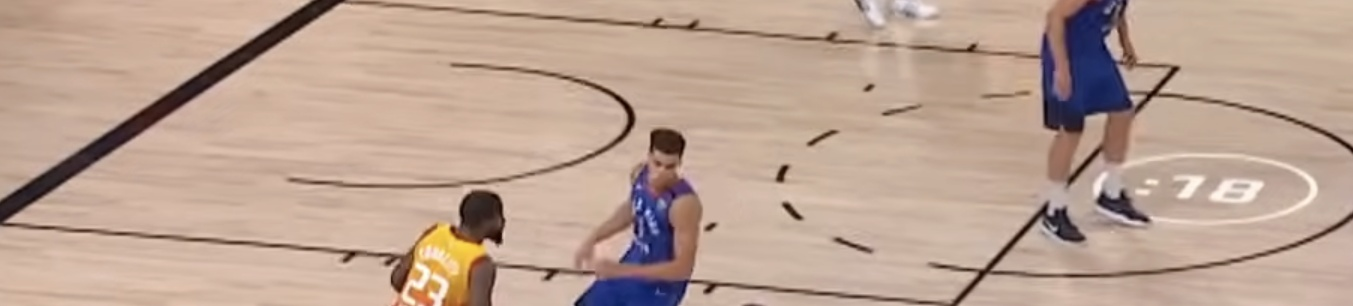endLine: (4, 1, 346, 223)
freeThrow: (955, 63, 1177, 304)
lane: (3, 223, 955, 306), (346, 1, 1177, 65)
